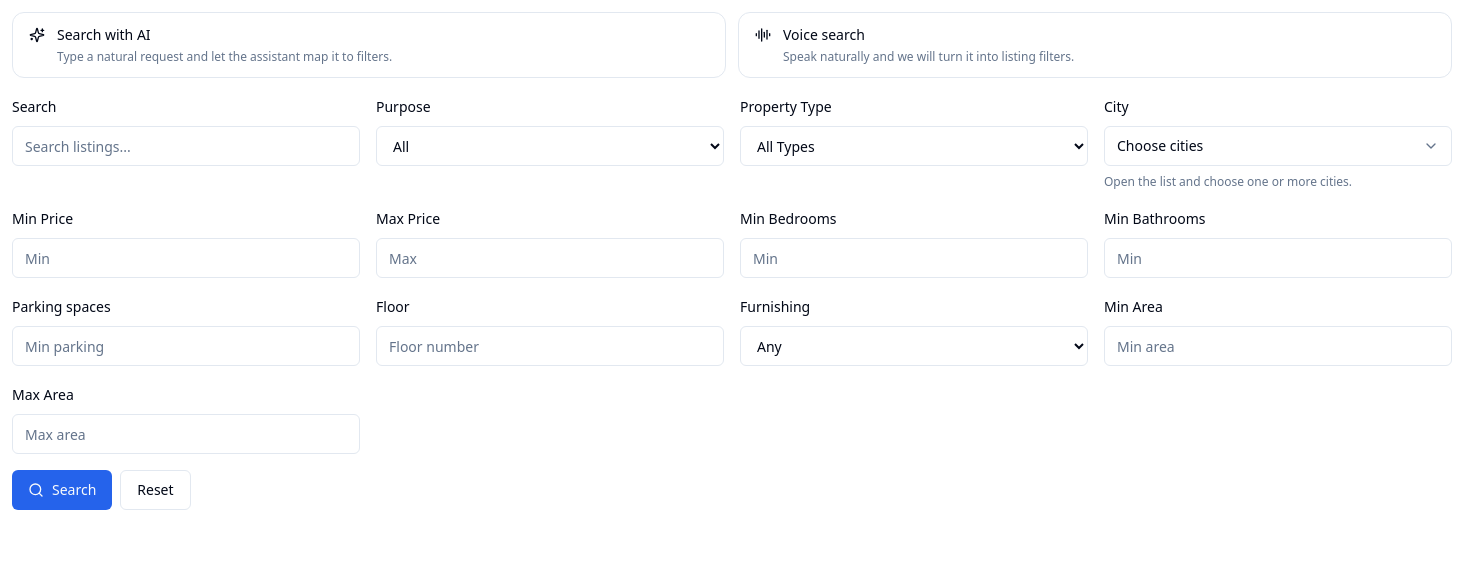
Test: SearchForm assistant fill behavior › opens city picker on click and lets the user select multiple cities with checkboxes
Click the button with test id "city-filter-trigger" at (1160, 146), box [1104,126,1452,166]
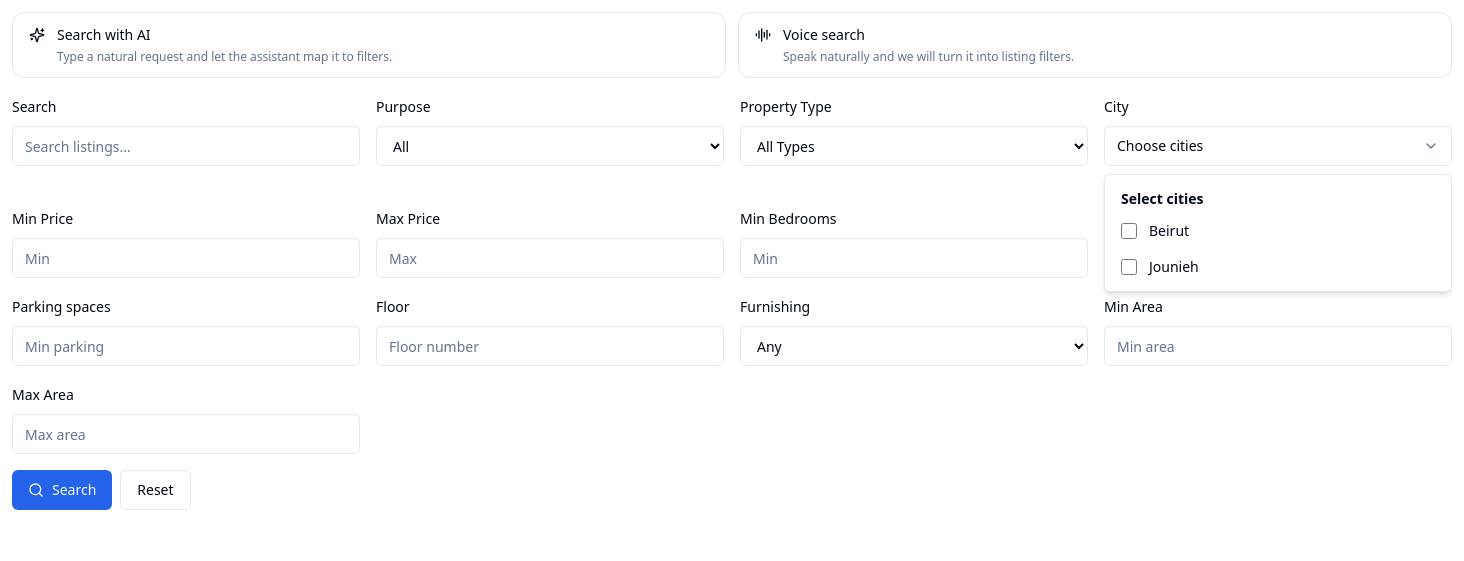
Click the checkbox labelled "Beirut" at (1129, 231), box [1121,223,1137,239]
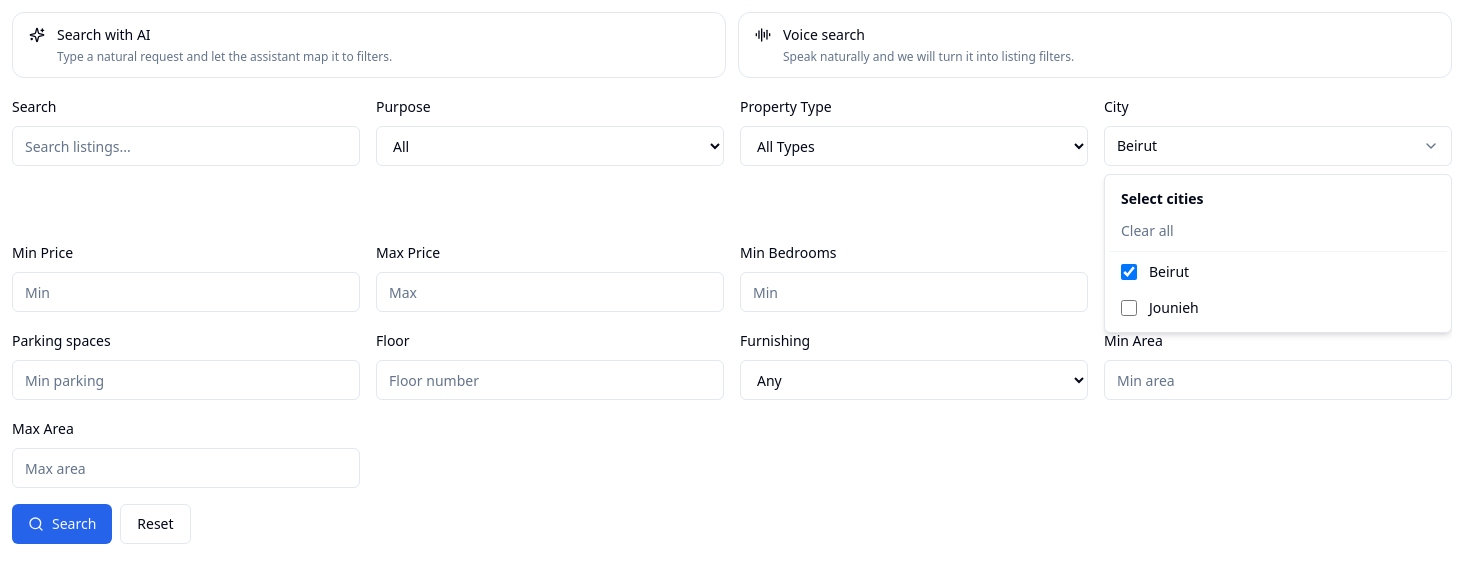
Click the checkbox labelled "Jounieh" at (1129, 308), box [1121,300,1137,316]
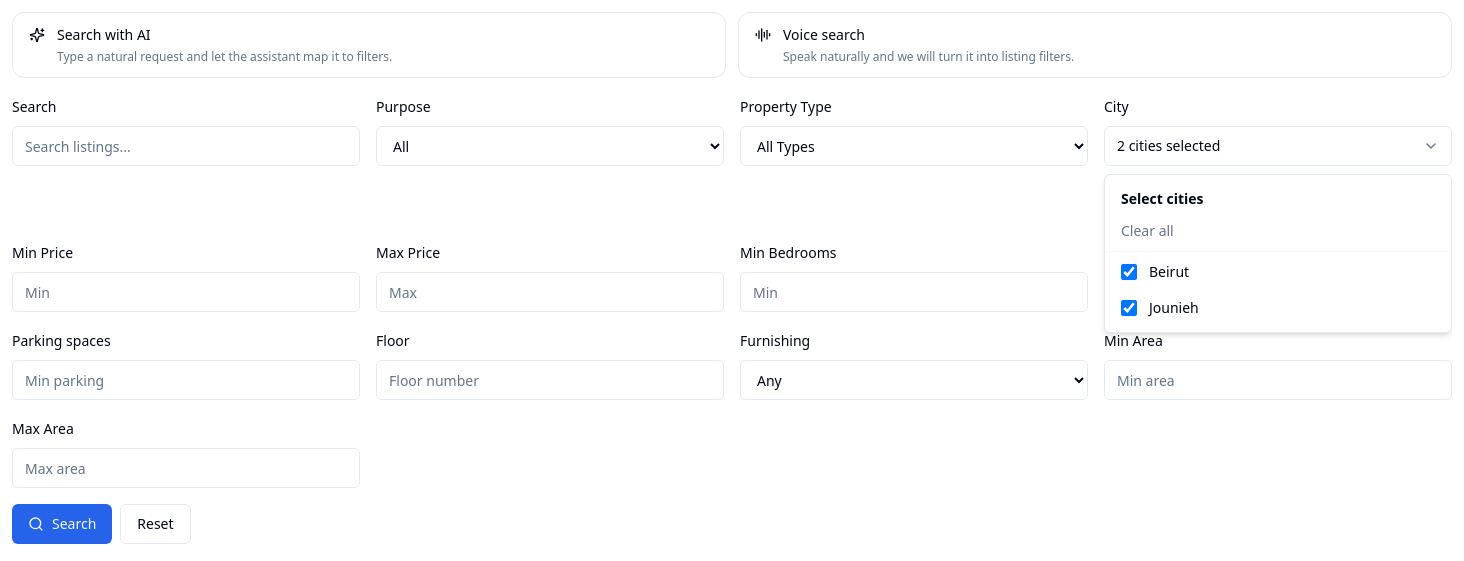
expect the element with test id "selected-city-chips" shows "Beirut": met, box [1129,178,1163,195]
expect the button with test id "city-filter-trigger" reads "2 cities selected": met, box [1104,126,1452,166]
